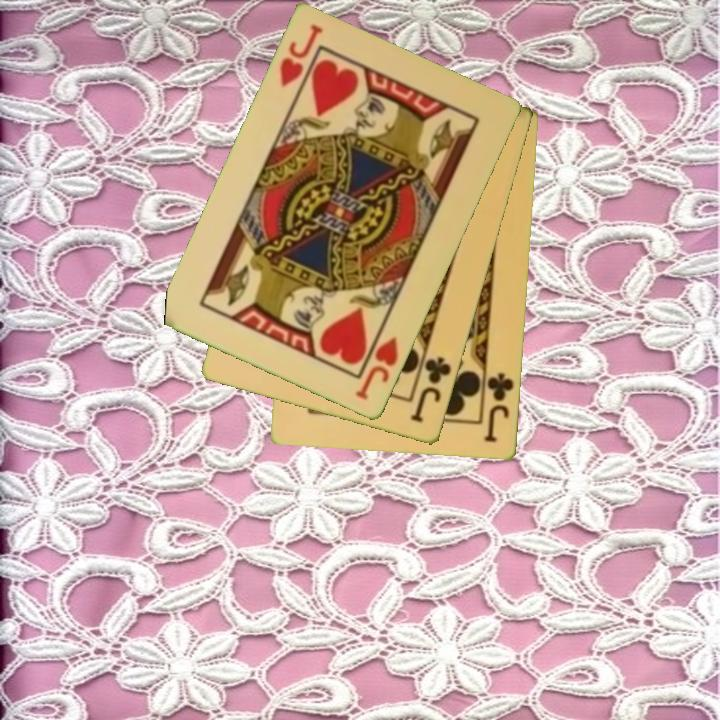Jc: (407, 353, 455, 426), (480, 369, 517, 446)
Jh: (352, 333, 402, 404), (276, 21, 326, 91)
